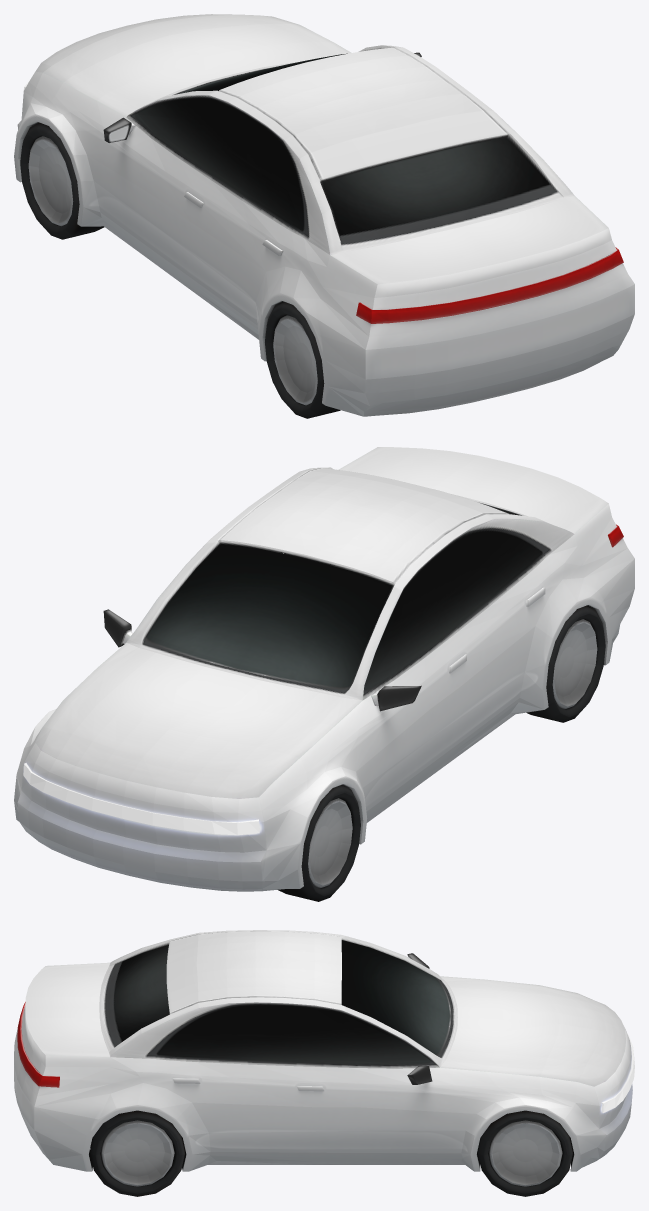
File: car_white.glb
3 views of the same model, one above another, from view 1: azimuth 30°, elevation 25°; view 2: azimuth 150°, elevation 25°; view 3: azimuth 270°, elevation 25° (orthographic). The views are drawn at different scales.
Visible parts, largest first — view 1: Node; view 2: Node; view 3: Node.
Boxes of the visible parts, x1=… form: Node: x1=14, y1=14, x2=634, y2=418; Node: x1=14, y1=447, x2=634, y2=901; Node: x1=14, y1=930, x2=634, y2=1196.
Size of the model in its own units: 30.44 by 21.42 by 65.36.
1 material, 1 textured.
